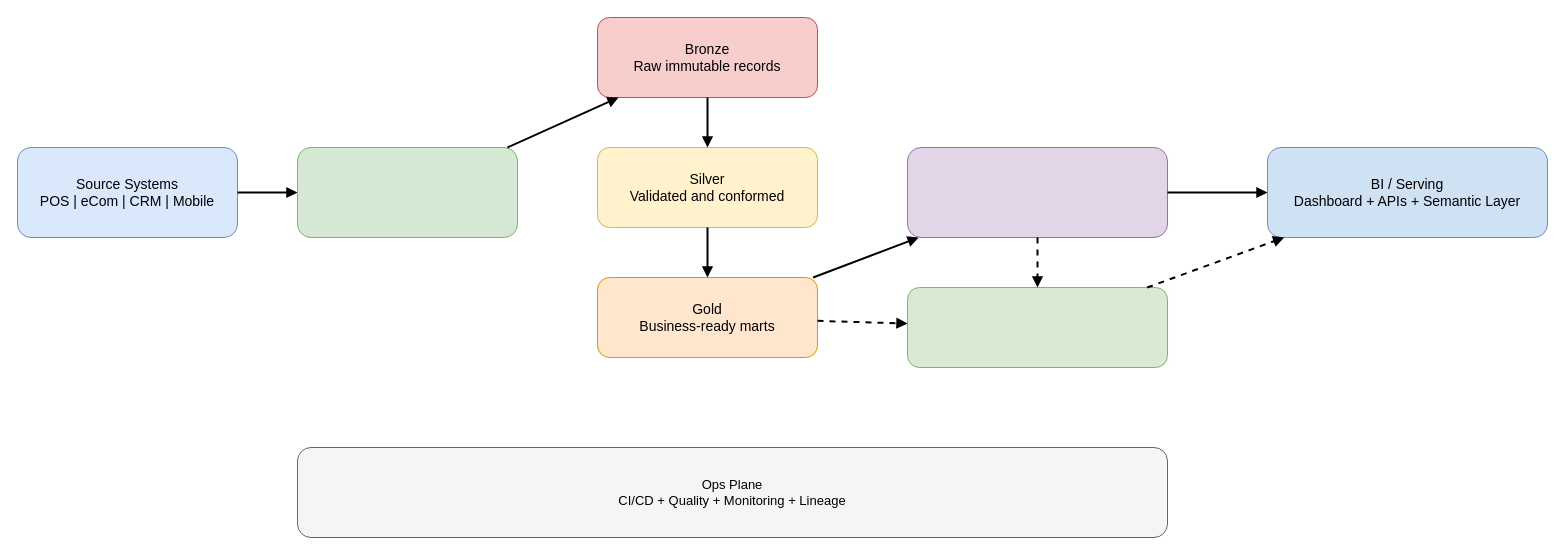
The diagram is 1565 pixels wide and 555 high, and some of its shapes have lost their labels. Each missing label, with the centre of its shape:
Federation Trino cross-source SQL: the point at 1037,327
Ingestion Kafka + Batch APIs/Files: the point at 407,192
Warehouse Postgres / Redshift + dbt: the point at 1037,192
